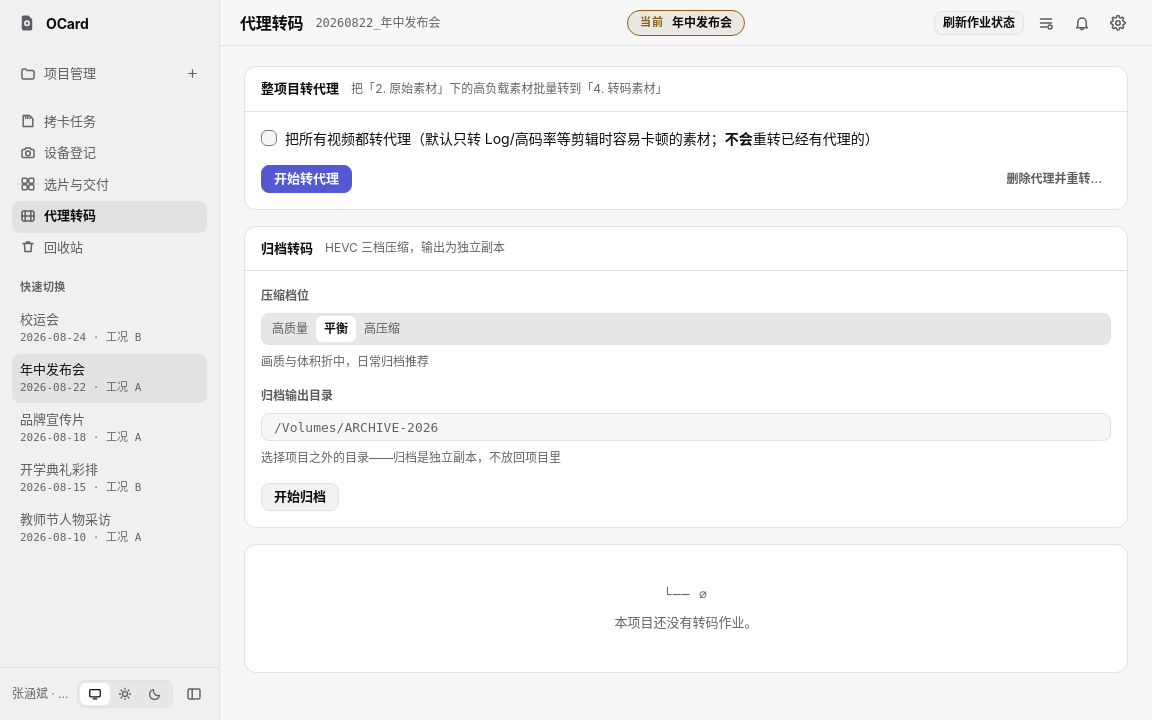
作业生命周期 › 取消走既有 cancelJob，并显示已完成量与安全说明
What coordinates should you click on to do the following:
click the button with test id "transcode-start"
I would click on:
 (306, 178)
Its box is [261,164,352,192].
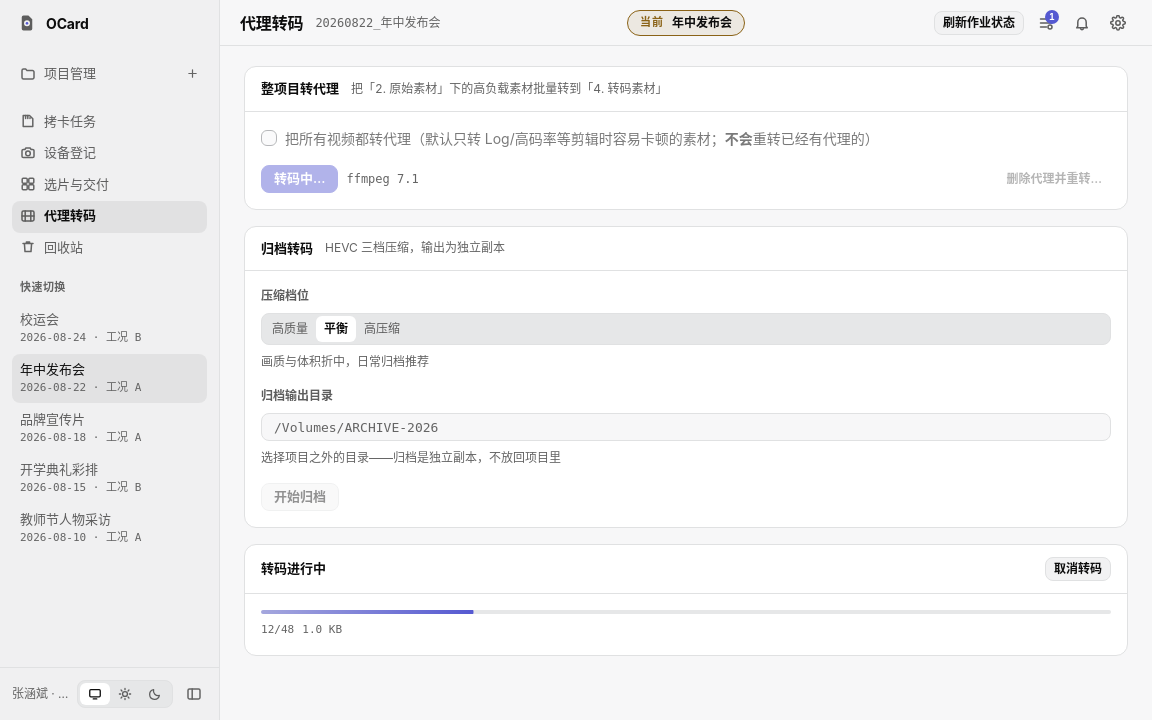
Now the element with test id "transcode-progress" is shown, box [244,544,1128,656]
What coordinates should you click on to do the following:
click the button with test id "transcode-cancel"
I would click on:
 (1078, 569)
Its box is [1045,557,1111,581].
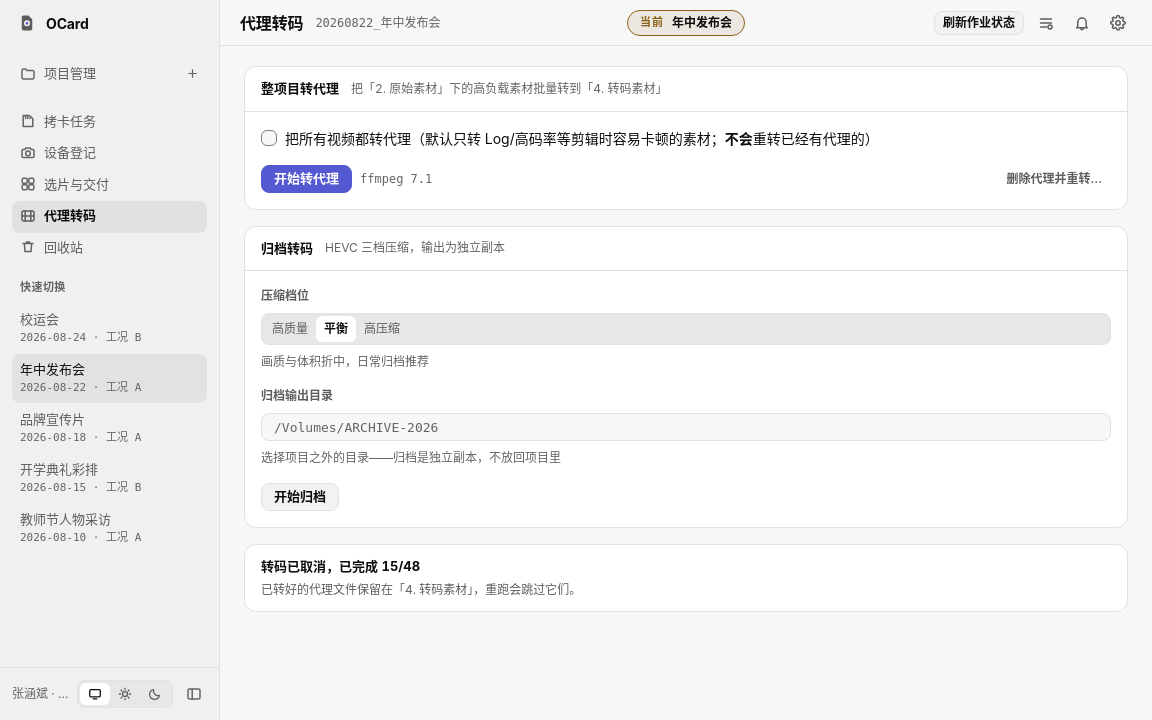
Now the message with test id "transcode-cancelled" shows "已完成 15/48", box [244,544,1128,612]
Now the message with test id "transcode-cancelled" shows "重跑会跳过它们", box [261,582,581,596]
